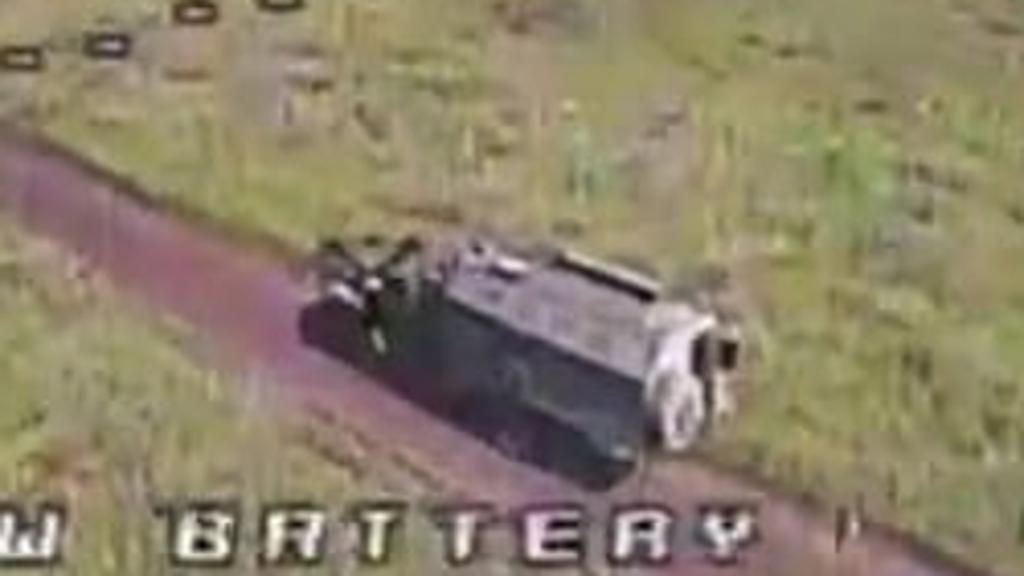TRUCK: (310, 224, 734, 482)
